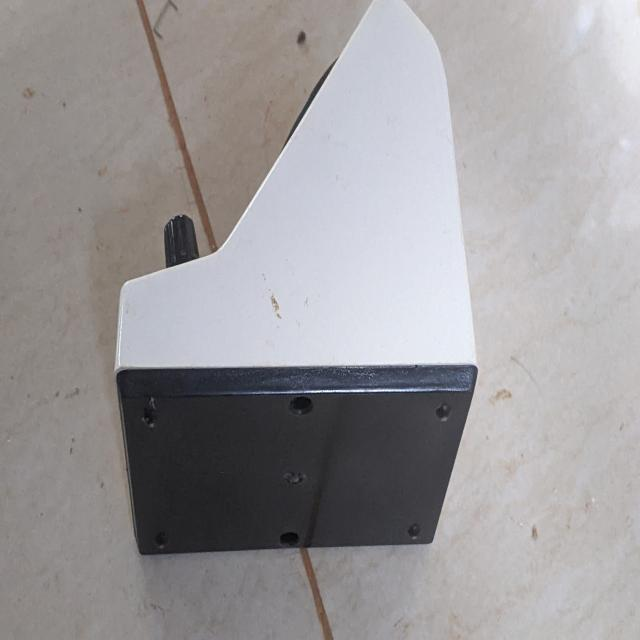Ammeter Analog: (110, 0, 485, 560)
